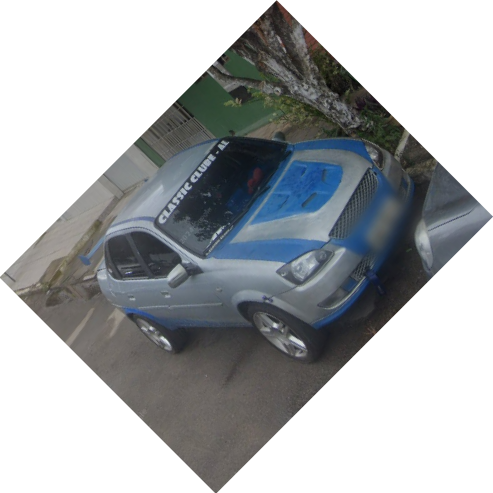car: (96, 133, 413, 366)
